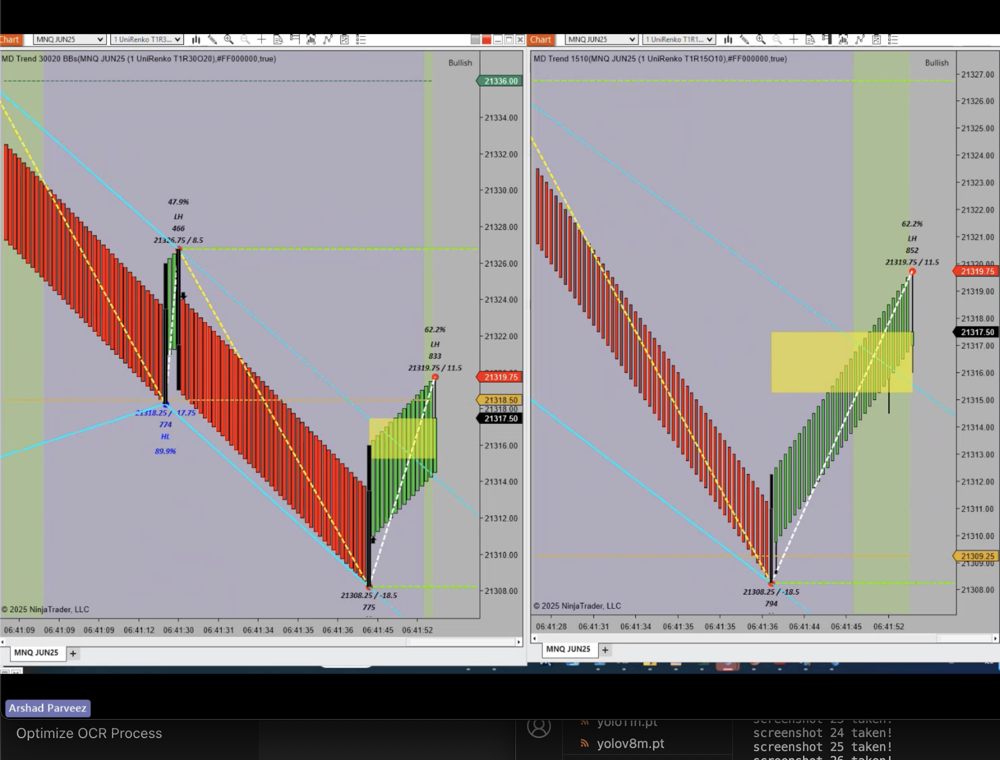HL: (155, 426, 175, 444)
LH: (901, 231, 923, 246), (424, 338, 448, 351), (168, 211, 191, 224)
